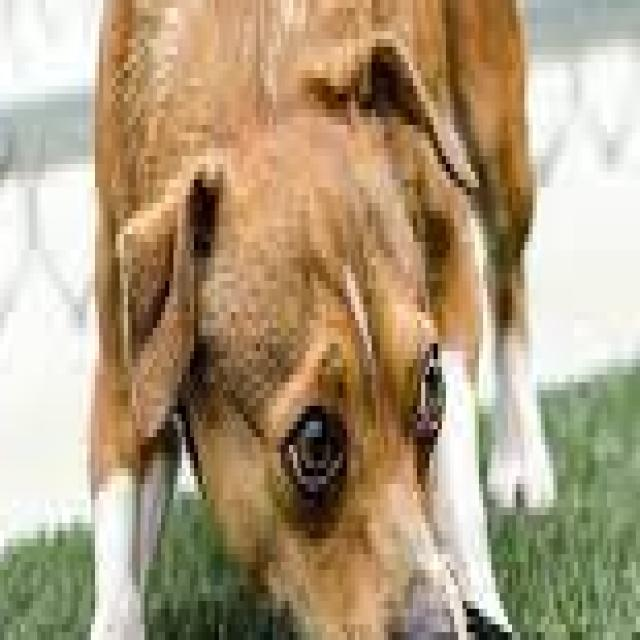dog: (4, 0, 595, 640)
